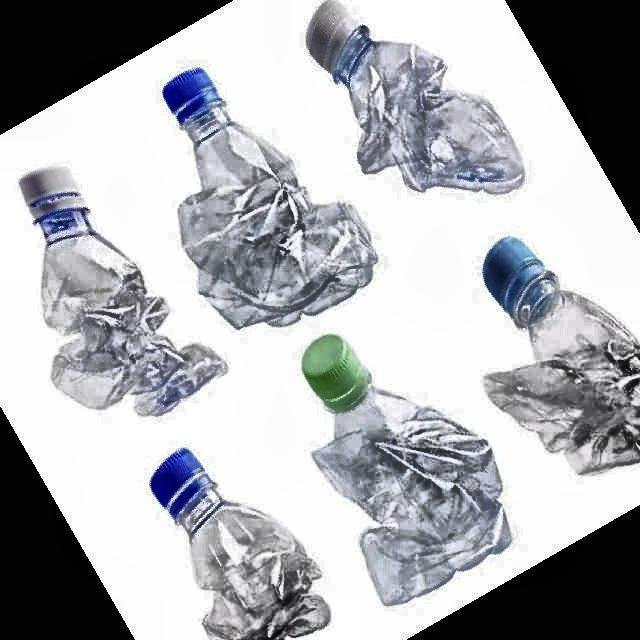plastic: (302, 335, 510, 604), (164, 69, 376, 328), (20, 169, 225, 415), (309, 2, 524, 192), (484, 239, 640, 472), (151, 449, 329, 640)
